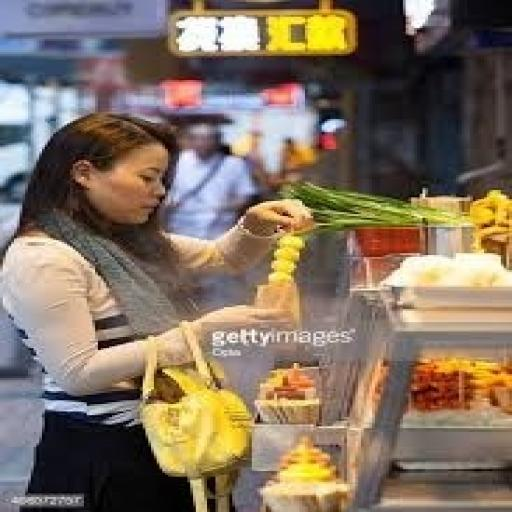eating: (0, 108, 316, 510)
